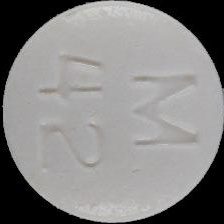0378-2042: (0, 0, 224, 224)
